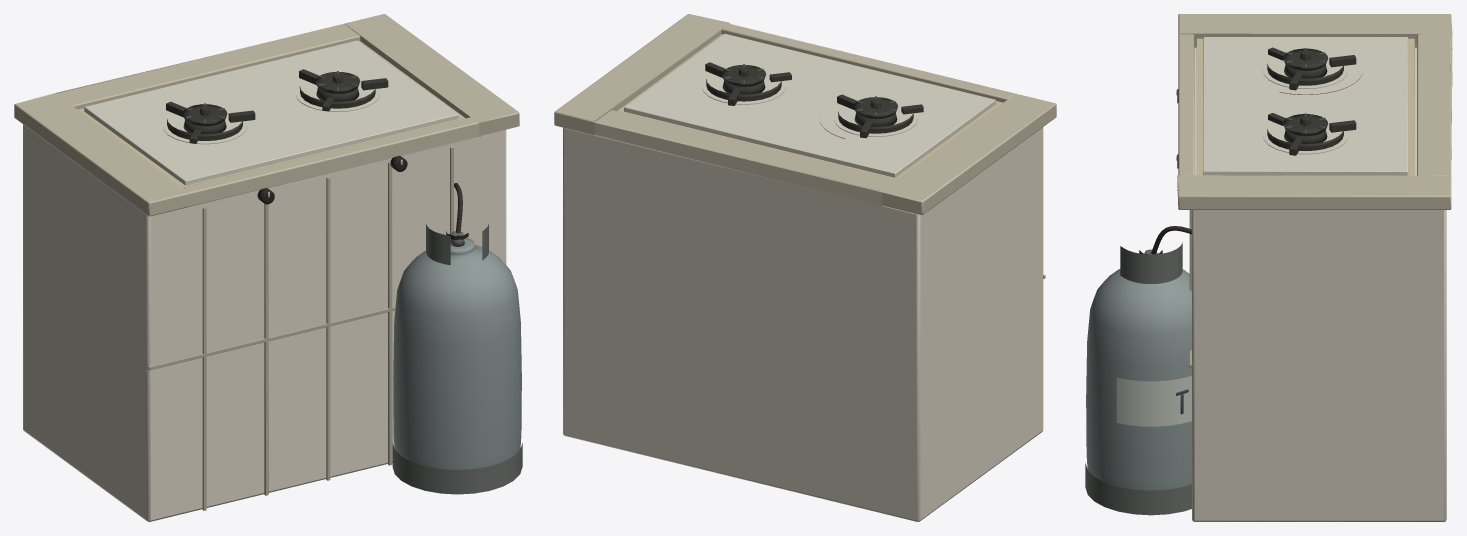
The model's file is BepGas_Kieng_BinhGas.glb.
The picture shows the model from 3 angles, left to right: view 1: azimuth 30°, elevation 25°; view 2: azimuth 150°, elevation 25°; view 3: azimuth 270°, elevation 25°; orthographic projection.
Visible parts, largest first — view 1: View_BepGas_Kieng_BinhGas, BinhGas, BepGas_Doi; view 2: View_BepGas_Kieng_BinhGas, BepGas_Doi; view 3: View_BepGas_Kieng_BinhGas, BepGas_Doi, BinhGas.
Part boxes in pixels (box(x1,y1,x2,y2)): View_BepGas_Kieng_BinhGas: box(14, 14, 519, 521); BinhGas: box(392, 223, 522, 494); BepGas_Doi: box(78, 40, 465, 187); View_BepGas_Kieng_BinhGas: box(554, 14, 1056, 521); BepGas_Doi: box(617, 33, 1002, 179); View_BepGas_Kieng_BinhGas: box(1151, 14, 1452, 521); BepGas_Doi: box(1196, 37, 1414, 175); BinhGas: box(1085, 242, 1191, 515).
Size of the model in its own units: 0.95 by 0.848 by 0.8069.
